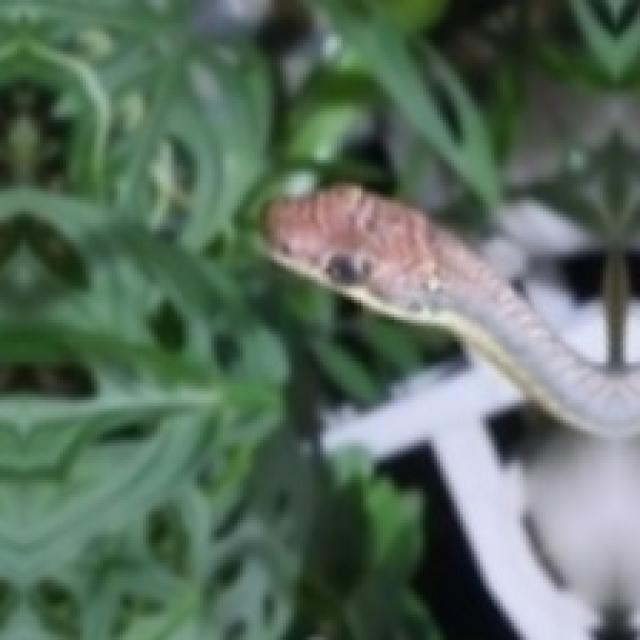paradise tree snake: (266, 186, 637, 437), (266, 186, 637, 434)
